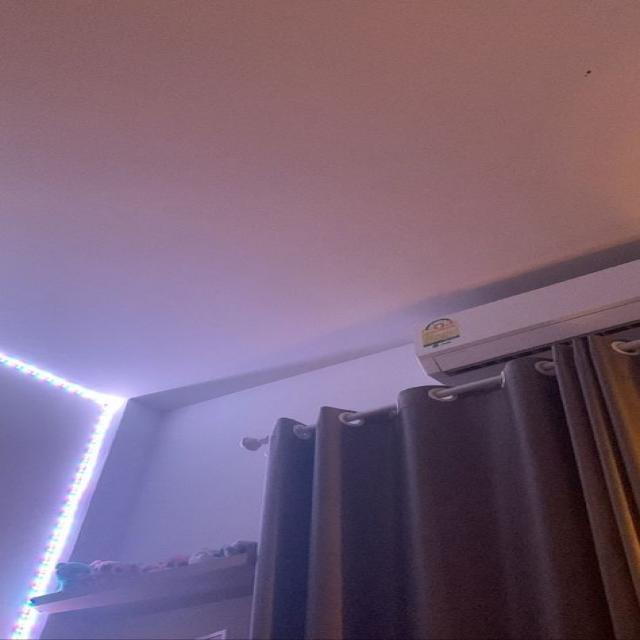AC: (413, 255, 639, 386)
